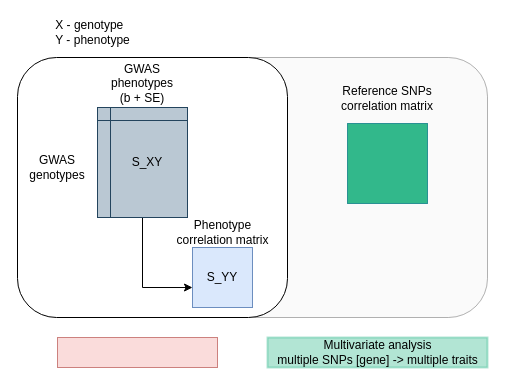
This 506x385 diagram has some shape labels left out. The centre of each missing label's shape, as x and y in pixels:
S_XX: [387,163]
Univariate analysis single SNP -> multiple traits: [137,352]
